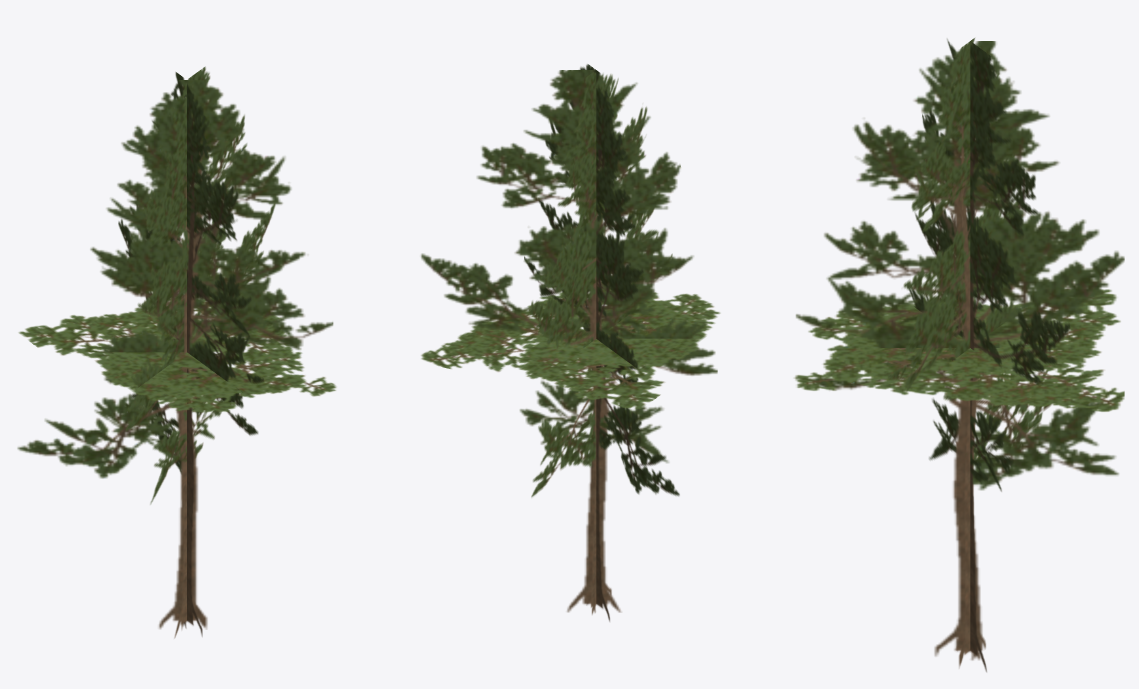
The model's file is pine_pine_big_1_billboard.gltf.
3 views of the same model, side by side, from view 1: azimuth 30°, elevation 25°; view 2: azimuth 150°, elevation 25°; view 3: azimuth 270°, elevation 25° (orthographic). The views are drawn at different scales.
Visible parts, largest first — view 1: Pine_big_1_Billboard_LOD3_Pine_big_1_Billboard_Mat_0; view 2: Pine_big_1_Billboard_LOD3_Pine_big_1_Billboard_Mat_0; view 3: Pine_big_1_Billboard_LOD3_Pine_big_1_Billboard_Mat_0.
Boxes of the visible parts, left/top/right/bottom form: Pine_big_1_Billboard_LOD3_Pine_big_1_Billboard_Mat_0: left=17, top=66, right=336, bottom=638; Pine_big_1_Billboard_LOD3_Pine_big_1_Billboard_Mat_0: left=421, top=64, right=720, bottom=621; Pine_big_1_Billboard_LOD3_Pine_big_1_Billboard_Mat_0: left=794, top=38, right=1124, bottom=671.
Size of the model in its own units: 8.37 by 16.72 by 8.12.
1 material, 1 textured.
